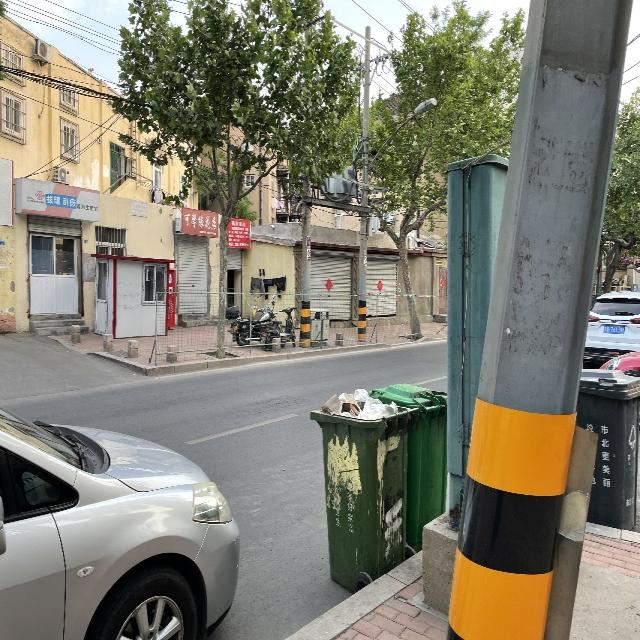garbage_bin: (371, 383, 446, 551), (575, 366, 639, 531)
overflow: (310, 387, 410, 593)
